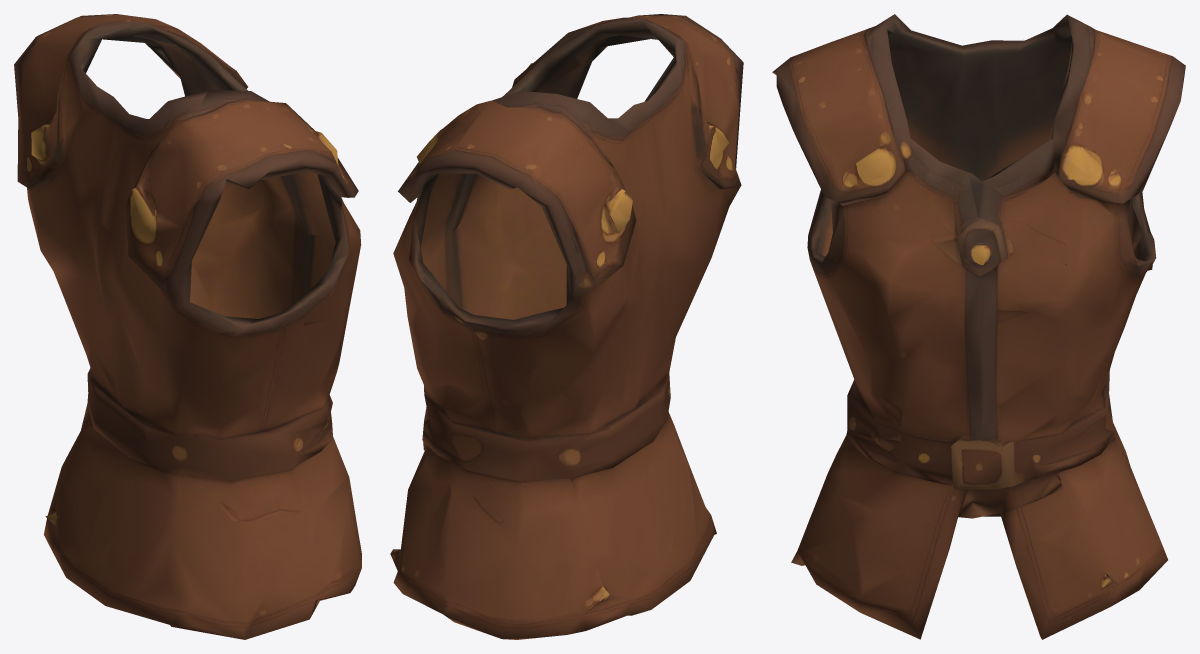
Rendered from item_leather_body.glb.
The picture shows the model from 3 angles, left to right: view 1: azimuth 30°, elevation 25°; view 2: azimuth 150°, elevation 25°; view 3: azimuth 270°, elevation 25°; orthographic projection.
Parts seen in each view (by area): view 1: tripo_node_3205f607-336a-4fd8-9d85-c61f3423aa52; view 2: tripo_node_3205f607-336a-4fd8-9d85-c61f3423aa52; view 3: tripo_node_3205f607-336a-4fd8-9d85-c61f3423aa52.
Part boxes in pixels (<box>): tripo_node_3205f607-336a-4fd8-9d85-c61f3423aa52: <box>14,14,361,639</box>; tripo_node_3205f607-336a-4fd8-9d85-c61f3423aa52: <box>390,14,743,639</box>; tripo_node_3205f607-336a-4fd8-9d85-c61f3423aa52: <box>772,14,1185,639</box>.
Size of the model in its own units: 0.4681 by 1 by 0.6965.
Materials: 1 (1 with a texture image).
